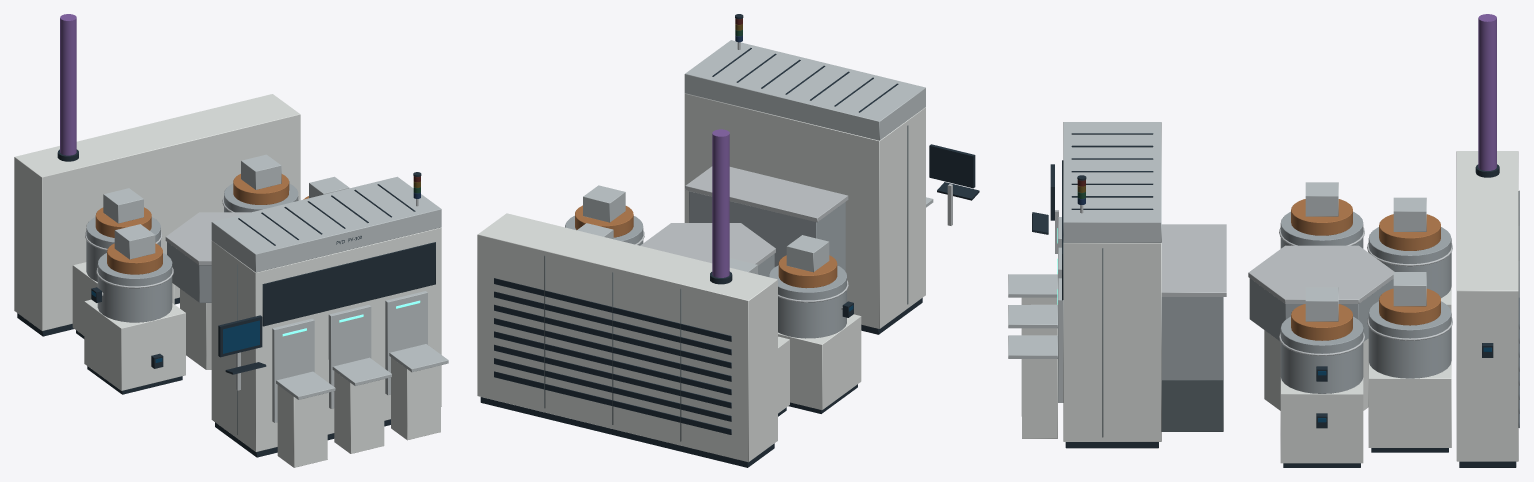
File: fab1-tool-pvd.glb
3 renders of one model, left to right at view 1: azimuth 30°, elevation 25°; view 2: azimuth 150°, elevation 25°; view 3: azimuth 270°, elevation 25°, orthographic. The views are drawn at different scales.
Visible parts, largest first — view 1: TOOL_PVD_EFEM, TOOL_PVD_Cabinets, TOOL_PVD_LoadPorts, TOOL_PVD_PM1, TOOL_PVD_TransferChamber, TOOL_PVD_PM2, TOOL_PVD_PM3, TOOL_PVD_Exhaust, TOOL_PVD_Operator, TOOL_HMI_Screen, TOOL_PVD_PM4; view 2: TOOL_PVD_Cabinets, TOOL_PVD_EFEM, TOOL_PVD_PM1, TOOL_PVD_LoadLocks, TOOL_PVD_TransferChamber, TOOL_PVD_Exhaust, TOOL_PVD_PM4, TOOL_PVD_Operator, TOOL_PVD_PM2; view 3: TOOL_PVD_EFEM, TOOL_PVD_Cabinets, TOOL_PVD_PM3, TOOL_PVD_PM4, TOOL_PVD_LoadLocks, TOOL_PVD_TransferChamber, TOOL_PVD_LoadPorts, TOOL_PVD_PM2, TOOL_PVD_PM1, TOOL_PVD_Exhaust, TOOL_PVD_Operator.
Part boxes in pixels (x1,y1,x2,y2): TOOL_PVD_EFEM: [211, 176, 441, 457]; TOOL_PVD_Cabinets: [14, 94, 300, 336]; TOOL_PVD_LoadPorts: [272, 291, 448, 467]; TOOL_PVD_PM1: [84, 224, 185, 394]; TOOL_PVD_TransferChamber: [165, 212, 250, 369]; TOOL_PVD_PM2: [72, 188, 174, 338]; TOOL_PVD_PM3: [222, 154, 299, 212]; TOOL_PVD_Exhaust: [57, 14, 78, 161]; TOOL_PVD_Operator: [218, 315, 266, 390]; TOOL_HMI_Screen: [223, 320, 259, 353]; TOOL_PVD_PM4: [303, 176, 349, 199]; TOOL_PVD_Cabinets: [477, 213, 777, 467]; TOOL_PVD_EFEM: [684, 40, 925, 334]; TOOL_PVD_PM1: [769, 235, 861, 413]; TOOL_PVD_LoadLocks: [685, 166, 848, 271]; TOOL_PVD_TransferChamber: [640, 223, 775, 276]; TOOL_PVD_Exhaust: [710, 129, 732, 284]; TOOL_PVD_PM4: [565, 185, 644, 245]; TOOL_PVD_Operator: [929, 144, 979, 225]; TOOL_PVD_PM2: [729, 258, 789, 416]; TOOL_PVD_EFEM: [1062, 122, 1161, 448]; TOOL_PVD_Cabinets: [1456, 151, 1519, 467]; TOOL_PVD_PM3: [1367, 272, 1452, 452]; TOOL_PVD_PM4: [1279, 287, 1364, 467]; TOOL_PVD_LoadLocks: [1161, 224, 1226, 431]; TOOL_PVD_TransferChamber: [1248, 245, 1394, 410]; TOOL_PVD_LoadPorts: [1008, 217, 1063, 438]; TOOL_PVD_PM2: [1367, 197, 1452, 312]; TOOL_PVD_PM1: [1279, 182, 1364, 248]; TOOL_PVD_Exhaust: [1475, 14, 1499, 177]; TOOL_PVD_Operator: [1032, 164, 1058, 253].
Size of the model in its own units: 3.43 by 3.55 by 4.94.
3 materials, 1 textured.
